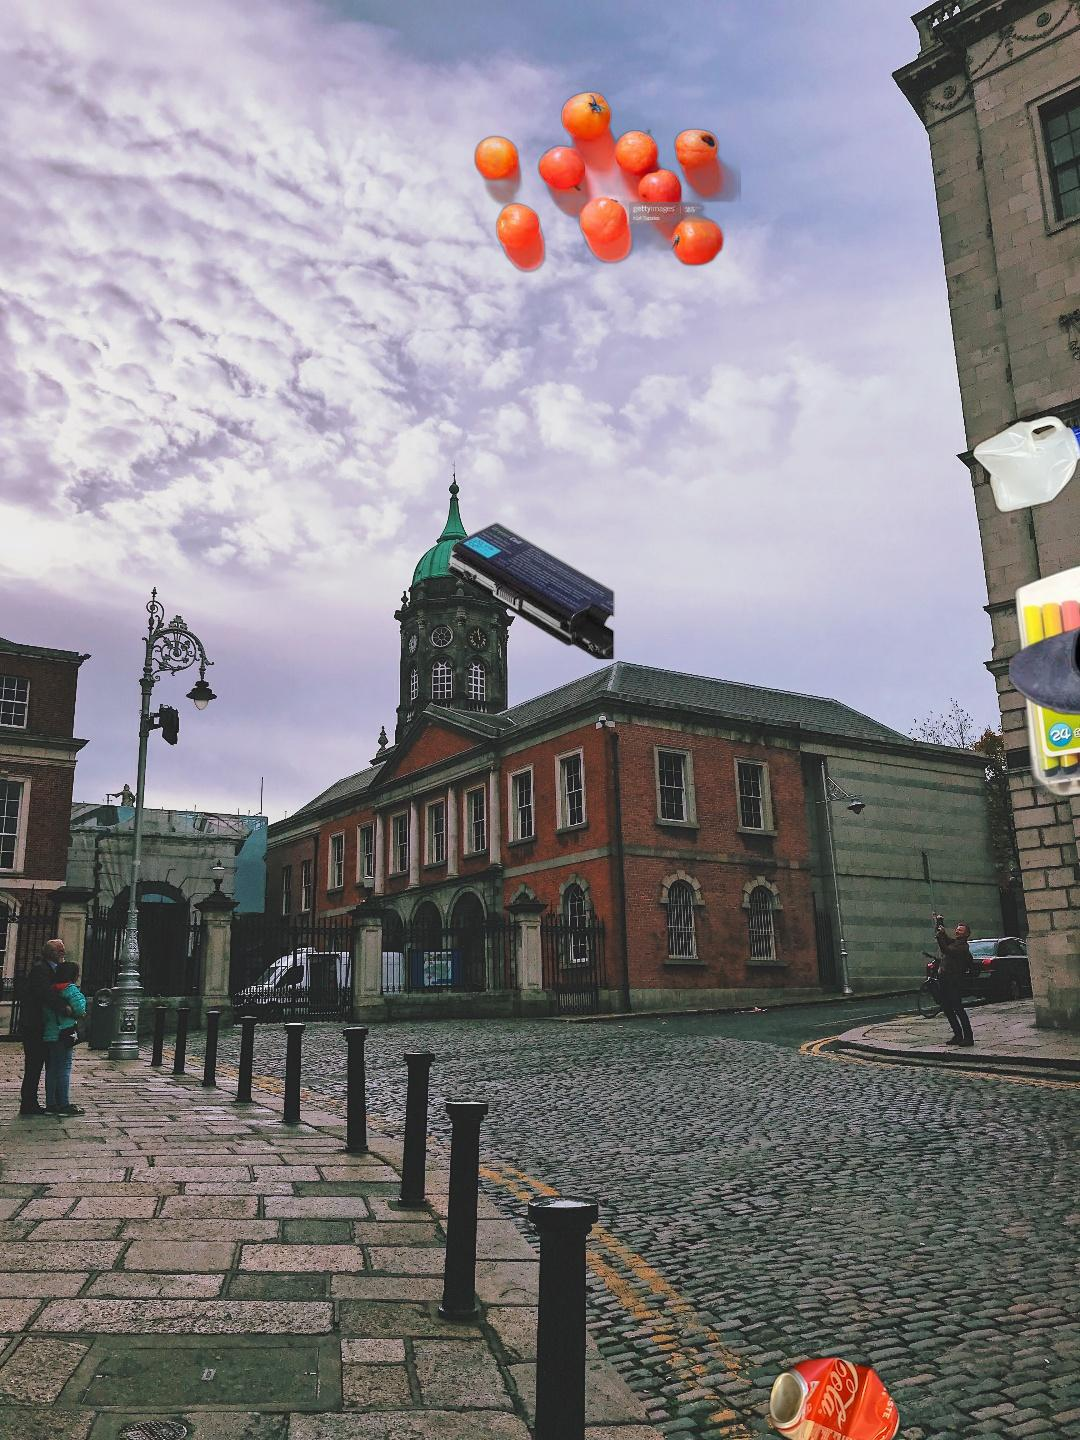battery: (442, 520, 618, 662)
biological: (472, 90, 741, 273)
metal-cans: (486, 1110, 904, 1440)
penholder: (1011, 446, 1080, 799)
plastic-bottles: (968, 396, 1080, 519)
shoes: (1009, 587, 1080, 720)
